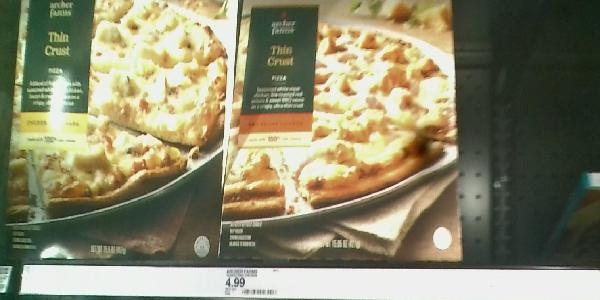pizza1: (219, 1, 465, 267), (7, 1, 226, 262)
